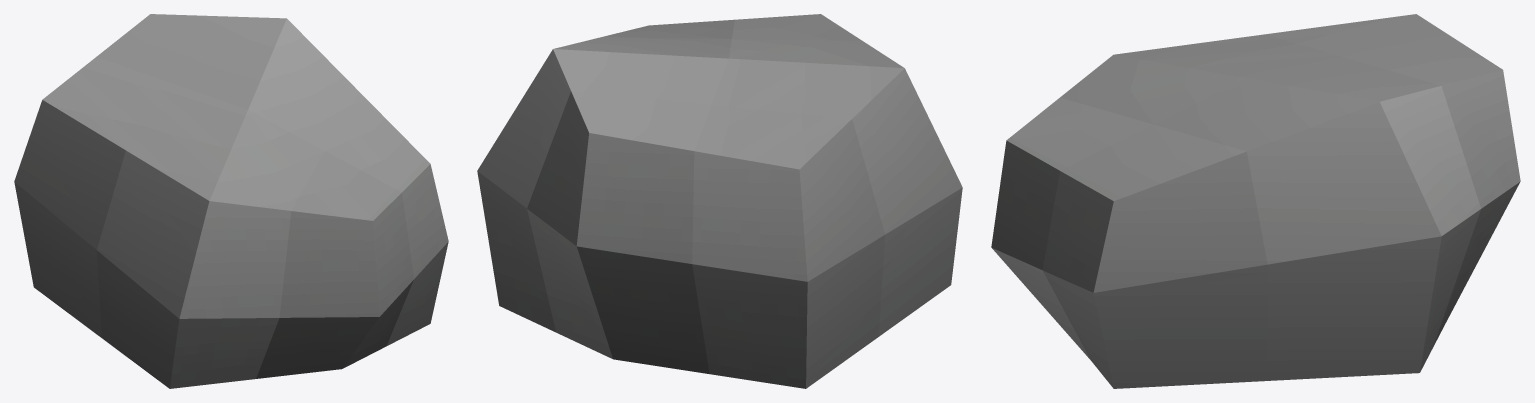
The model's file is Stone_01.fbx.
The picture shows the model from 3 angles, left to right: view 1: azimuth 30°, elevation 25°; view 2: azimuth 150°, elevation 25°; view 3: azimuth 270°, elevation 25°; orthographic projection. The views are drawn at different scales.
Visible parts, largest first — view 1: Stone_01; view 2: Stone_01; view 3: Stone_01.
Boxes of the visible parts, <box> form: Stone_01: <box>14,14,448,388</box>; Stone_01: <box>477,14,962,388</box>; Stone_01: <box>991,14,1520,388</box>.
Size of the model in its own units: 81.47 by 63.91 by 111.
Materials: 1 (1 with a texture image).
